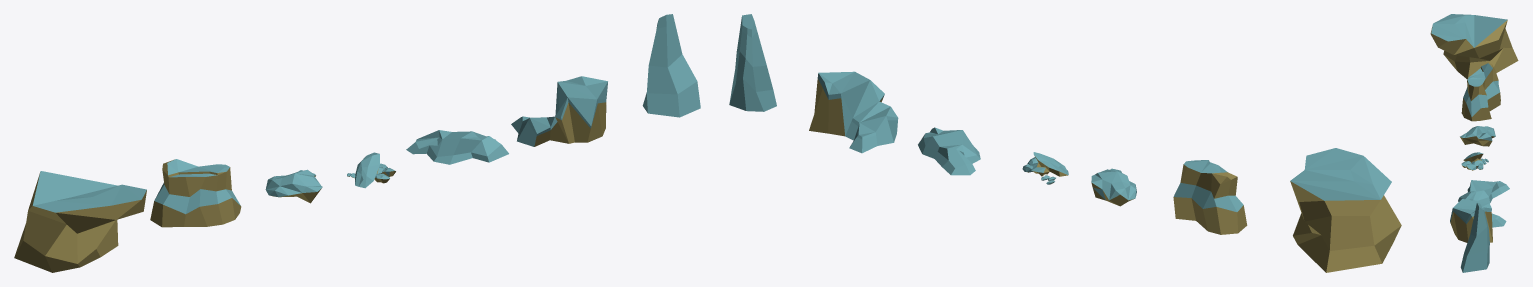
File: LP_ROCKS_SemiSnow.fbx
3 renders of one model, left to right at view 1: azimuth 30°, elevation 25°; view 2: azimuth 150°, elevation 25°; view 3: azimuth 270°, elevation 25°, orthographic. The views are drawn at different scales.
Visible parts, largest first — view 1: Plane.007; view 2: Plane.007; view 3: Plane.007.
Part boxes in pixels (x1,y1,x2,y2): Plane.007: (14, 14, 700, 272); Plane.007: (729, 14, 1401, 272); Plane.007: (1430, 14, 1518, 272).
Size of the model in its own units: 4037 by 543 by 675.
